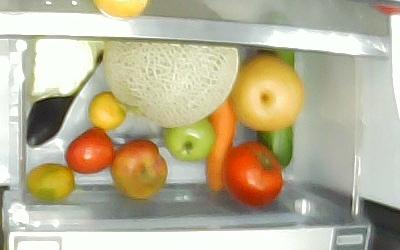cabbage: (27, 40, 101, 100)
eggplant: (25, 48, 104, 146)
melon: (103, 36, 239, 127)
pear: (230, 57, 304, 131)
prune: (113, 138, 168, 199), (66, 128, 116, 174)
tangerine: (27, 160, 73, 200), (88, 92, 127, 129)
tomato: (222, 141, 284, 204), (161, 117, 216, 160)
zucchini: (256, 48, 295, 169)
